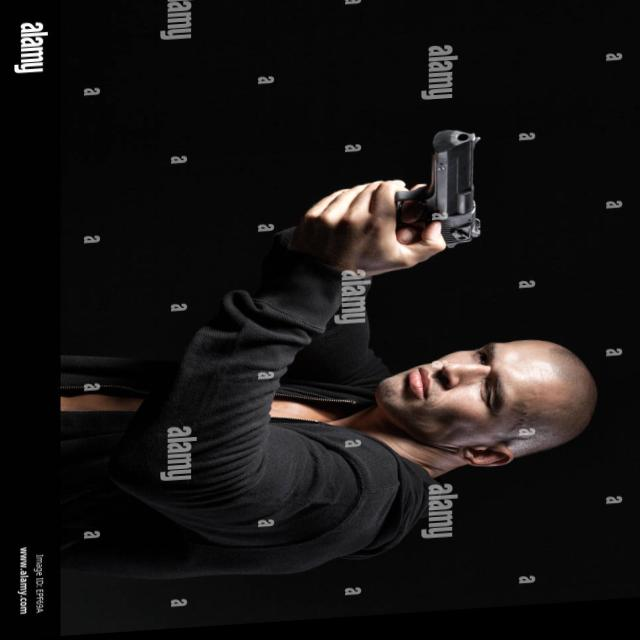handgun: (389, 128, 482, 261)
